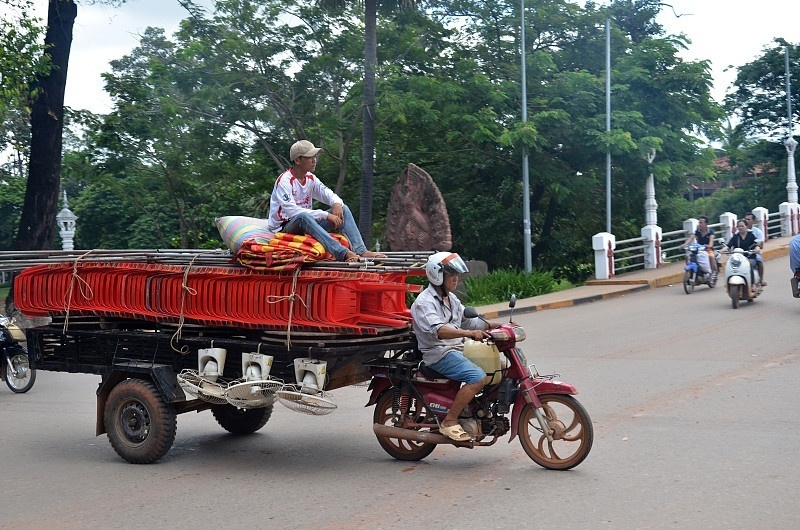non-vehicle: (362, 297, 598, 470), (720, 242, 765, 307), (0, 315, 28, 393), (683, 242, 718, 292)
